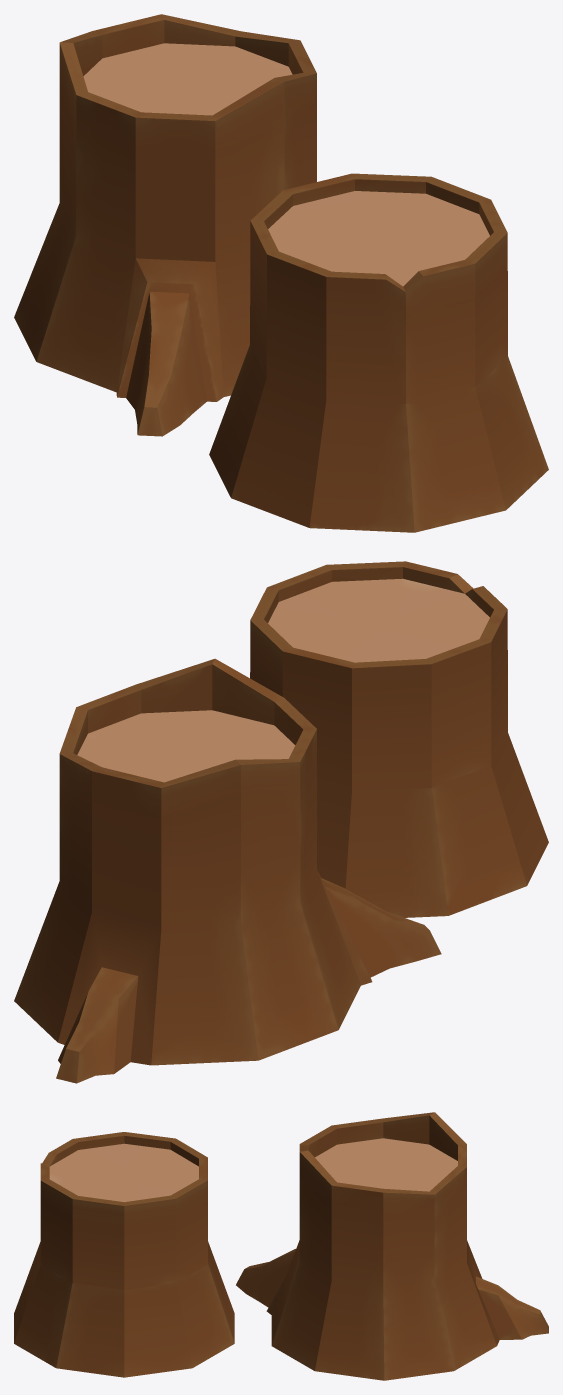
The model's file is Stumps.fbx.
The picture shows the model from 3 angles, top to bottom: view 1: azimuth 30°, elevation 25°; view 2: azimuth 150°, elevation 25°; view 3: azimuth 270°, elevation 25°; orthographic projection. The views are drawn at different scales.
Visible parts, largest first — view 1: Stump_ver2, Stump_ver1; view 2: Stump_ver1, Stump_ver2; view 3: Stump_ver1, Stump_ver2.
Boxes of the visible parts, x1,y1,x2,y2 form: Stump_ver2: (209, 173, 548, 532); Stump_ver1: (14, 14, 316, 436); Stump_ver1: (14, 658, 441, 1083); Stump_ver2: (250, 561, 548, 917); Stump_ver1: (236, 1112, 548, 1380); Stump_ver2: (14, 1132, 234, 1377).
Size of the model in its own units: 2.7 by 2.39 by 6.09.
